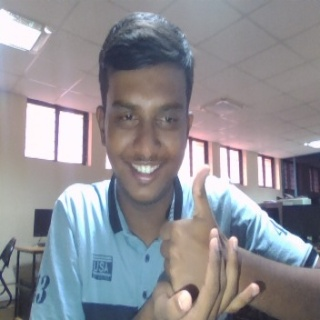Face: (94, 11, 195, 206)
Help: (151, 161, 261, 320)
